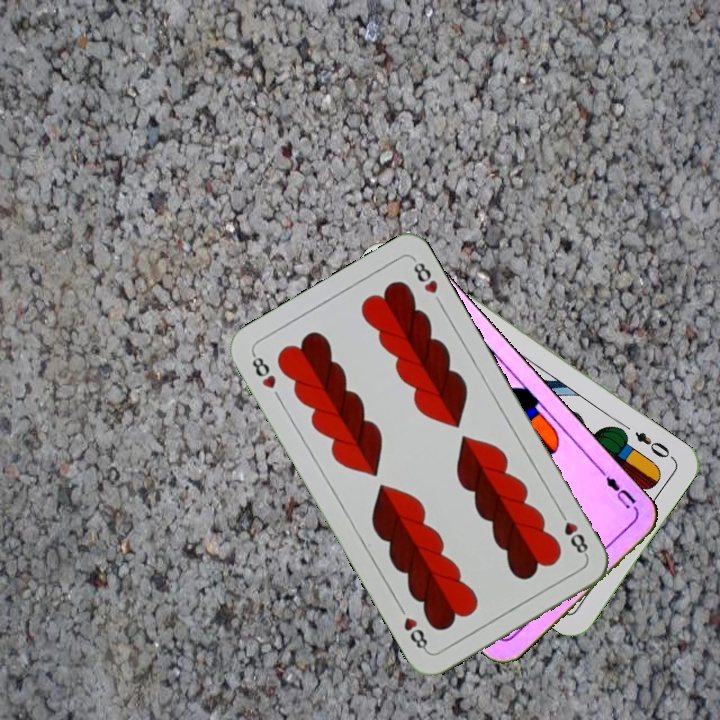EO: (630, 427, 677, 462)
EU: (597, 467, 642, 515)
H8: (554, 506, 591, 560), (247, 349, 279, 391)
